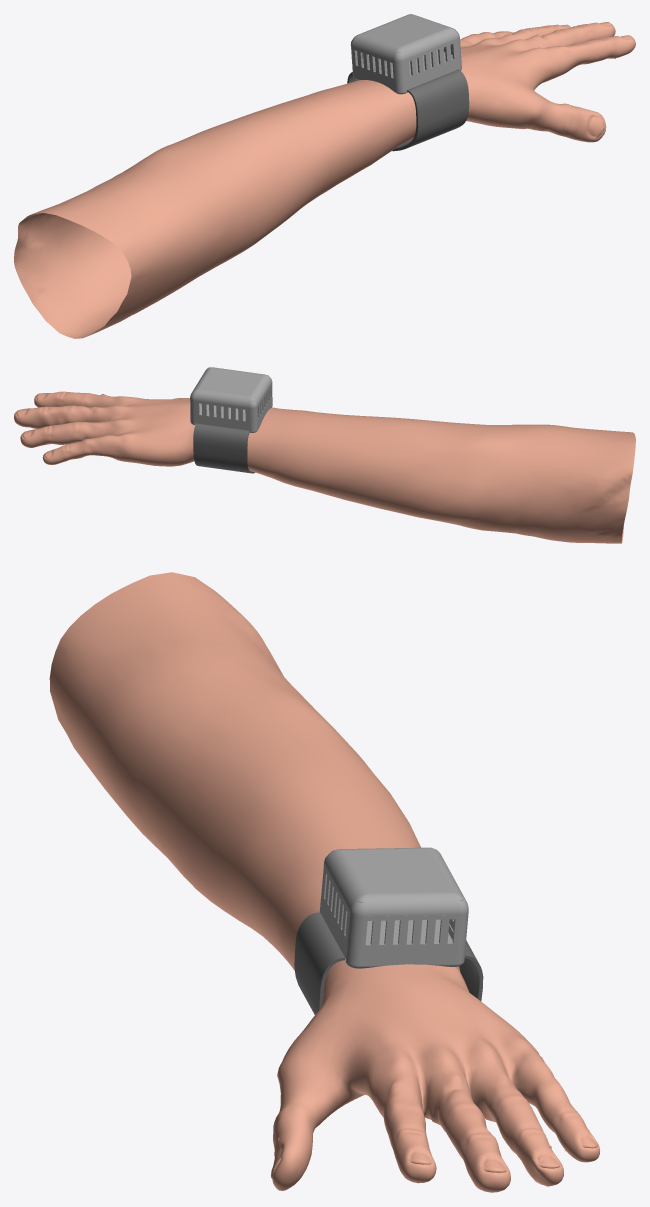
The model's file is PortablePneumaticWristband5.glb.
3 views of the same model, one above another, from view 1: azimuth 30°, elevation 25°; view 2: azimuth 150°, elevation 25°; view 3: azimuth 270°, elevation 25° (orthographic). The views are drawn at different scales.
Visible parts, largest first — view 1: New object, NAUO4, NAUO2, NAUO1, NAUO3; view 2: New object, NAUO2, NAUO4, NAUO1, NAUO3; view 3: New object, NAUO2, NAUO1, NAUO4, NAUO3.
Boxes of the visible parts, left/top/right/bottom form: New object: left=14, top=22, right=635, bottom=338; NAUO4: left=347, top=70, right=469, bottom=151; NAUO2: left=350, top=14, right=459, bottom=62; NAUO1: left=351, top=37, right=461, bottom=84; NAUO3: left=352, top=59, right=461, bottom=94; New object: left=14, top=391, right=635, bottom=543; NAUO2: left=190, top=367, right=272, bottom=408; NAUO4: left=193, top=423, right=255, bottom=473; NAUO1: left=190, top=383, right=272, bottom=425; NAUO3: left=190, top=400, right=272, bottom=432; New object: left=49, top=572, right=599, bottom=1192; NAUO2: left=323, top=847, right=468, bottom=916; NAUO1: left=320, top=866, right=468, bottom=952; NAUO4: left=294, top=912, right=483, bottom=1014; NAUO3: left=319, top=900, right=465, bottom=968.
Bounding box in the file's own units: 184 × 39.92 × 79.89.
